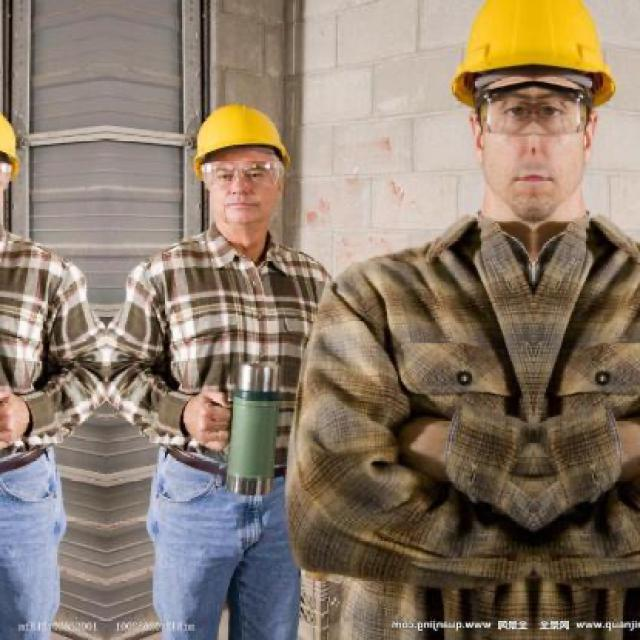con casco: (156, 104, 337, 248), (417, 0, 525, 146), (526, 0, 637, 140)
